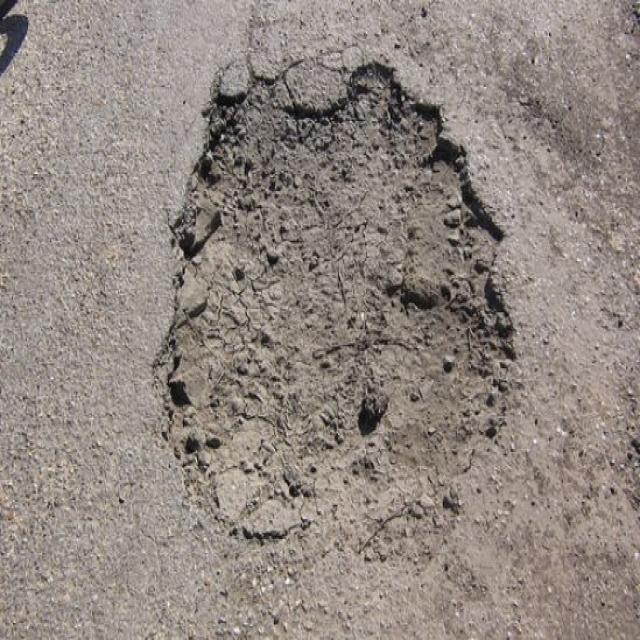pothole: (149, 36, 522, 576)
